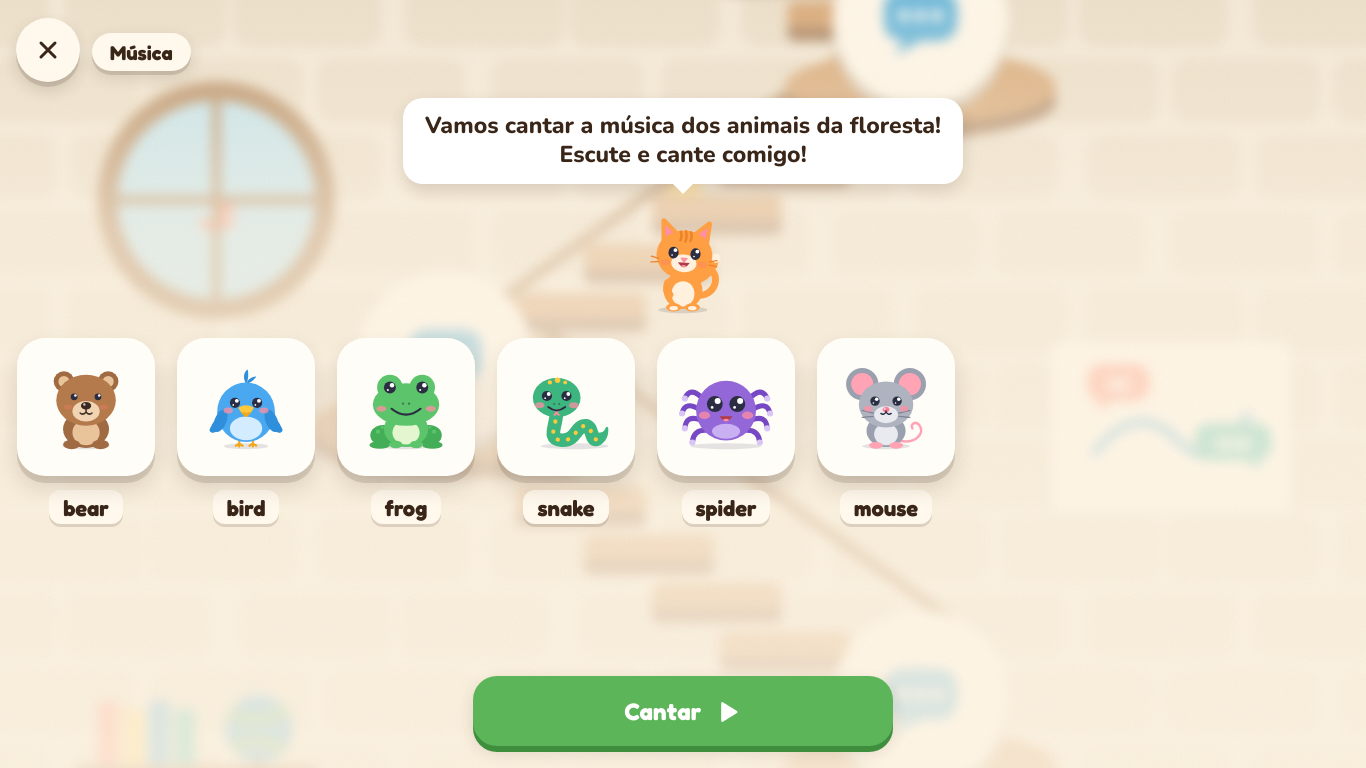
Scenario: SongStop › shows the Nino on the last line and while it sings
Click the button "Cantar": [683, 711] box [473,676,893,746]
Wait 150 ms
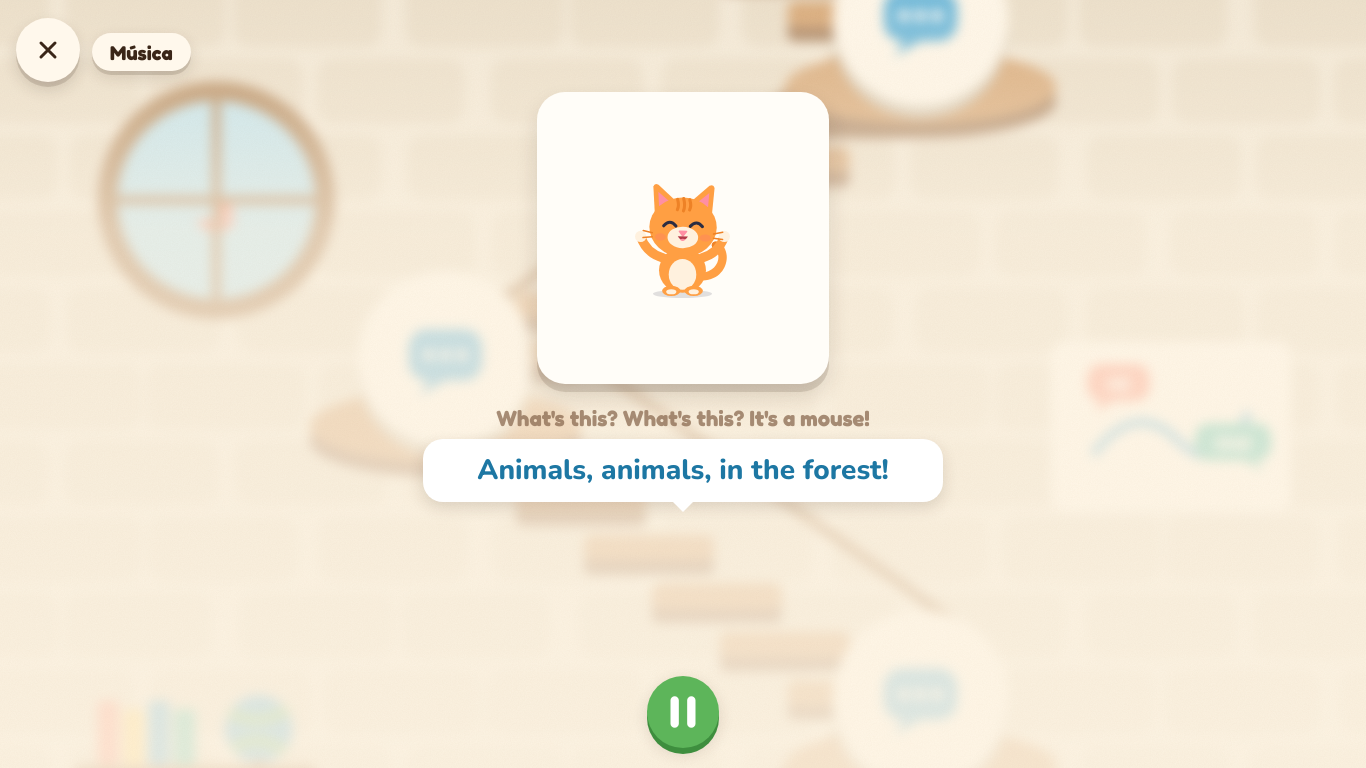
Check: the picture named "Nino" is shown, box [616,161,750,315]
Check: the element showing "Animals, animals, in the forest!" is shown, box [423,439,943,506]
